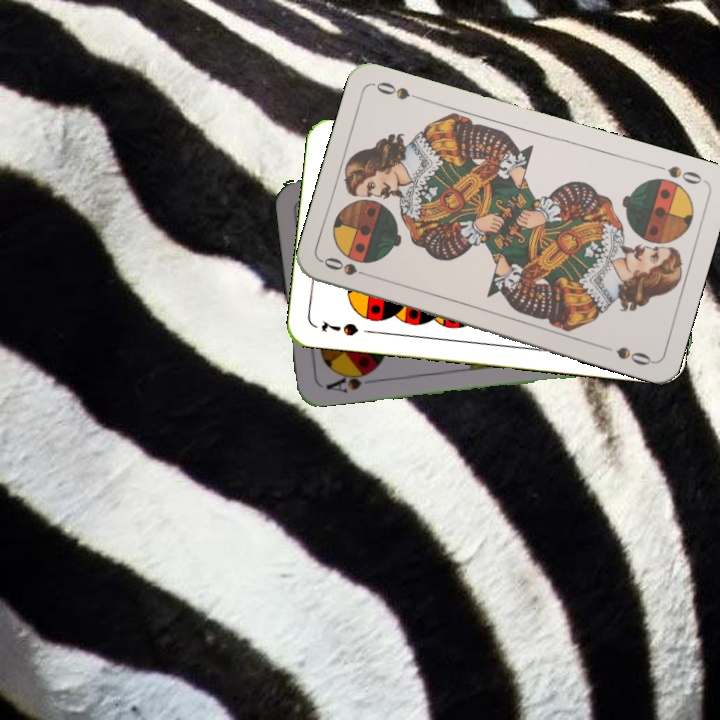S7: (317, 316, 361, 339)
SA: (322, 365, 377, 396)
SO: (319, 253, 377, 280), (650, 160, 707, 187)
